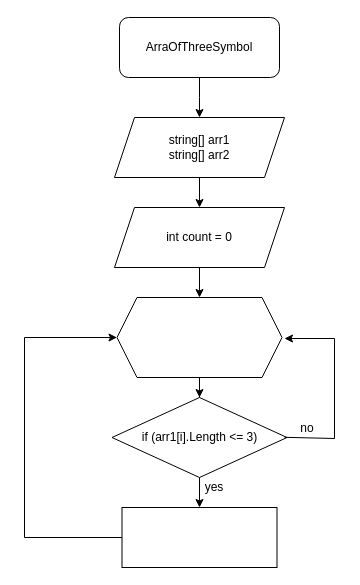
The diagram is 360 pixels wide and 585 high, and some of its shapes have lost their labels. Here are the shapes that lost their labels. From the top down, the centre of each, then its label:
(x=199, y=337): for (i = 0; i< arr1.Length; i++;)
(x=199, y=537): arr2[count] = arr1[i]; count++;
